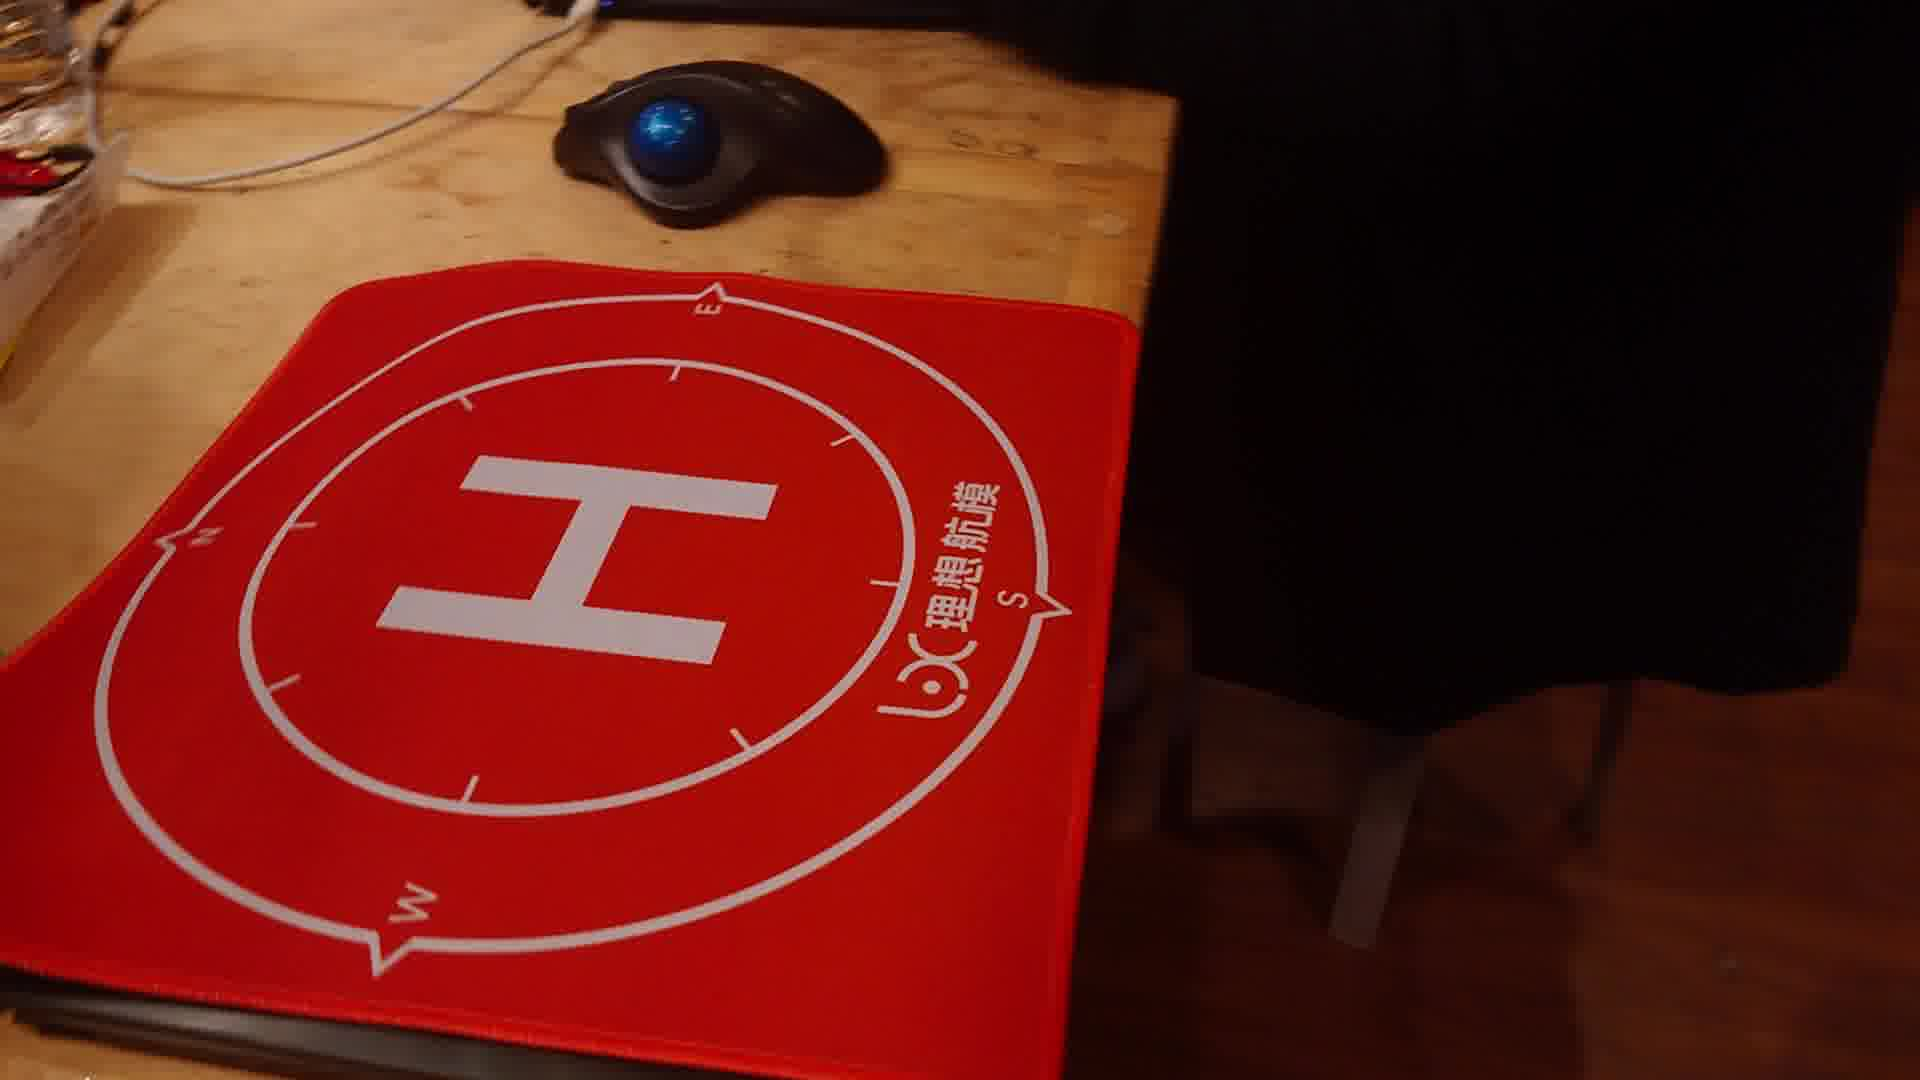H: (373, 454, 778, 666)
